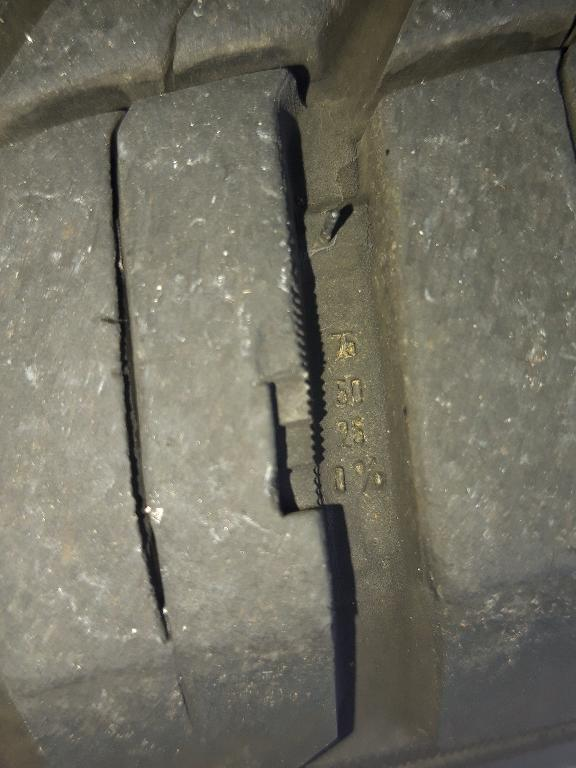temoin:80: (248, 276, 334, 538)
